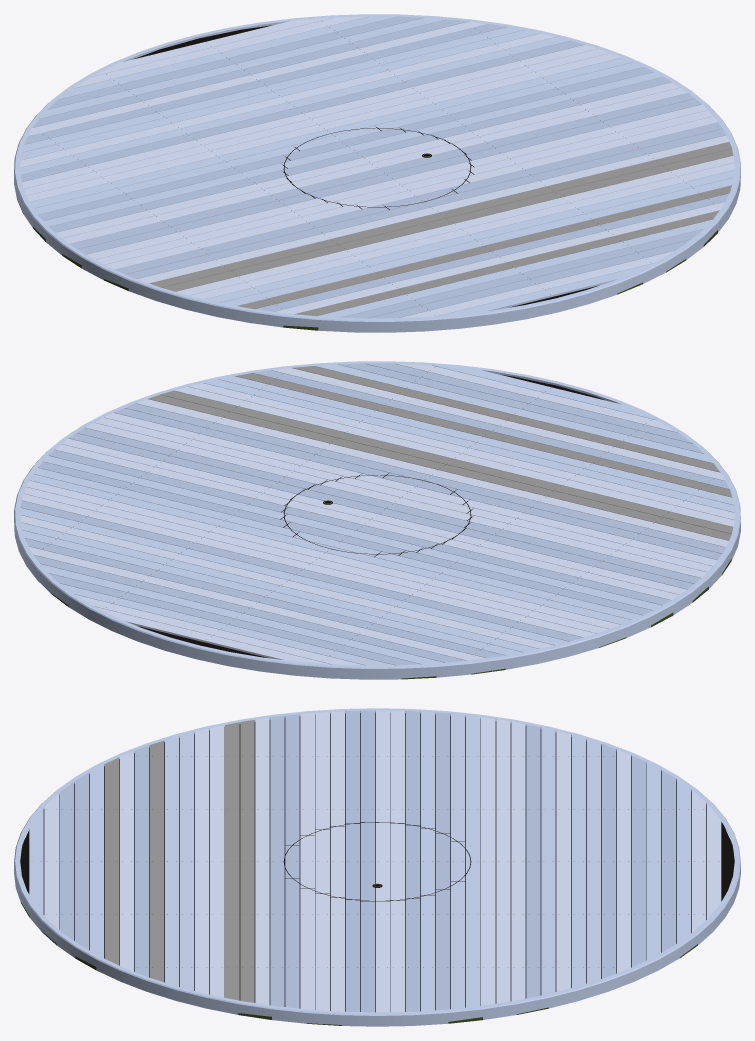
The model's file is birch_circle.glb.
3 renders of one model, top to bottom at view 1: azimuth 30°, elevation 25°; view 2: azimuth 150°, elevation 25°; view 3: azimuth 270°, elevation 25°, orthographic.
Visible parts, largest first — view 1: birkenkreis; view 2: birkenkreis; view 3: birkenkreis.
Part boxes in pixels (left/top/right/bottom): birkenkreis: left=14, top=14, right=740, bottom=332; birkenkreis: left=14, top=361, right=740, bottom=679; birkenkreis: left=14, top=708, right=740, bottom=1026.
Bounding box in the file's own units: 7 × 0.128 × 7.
